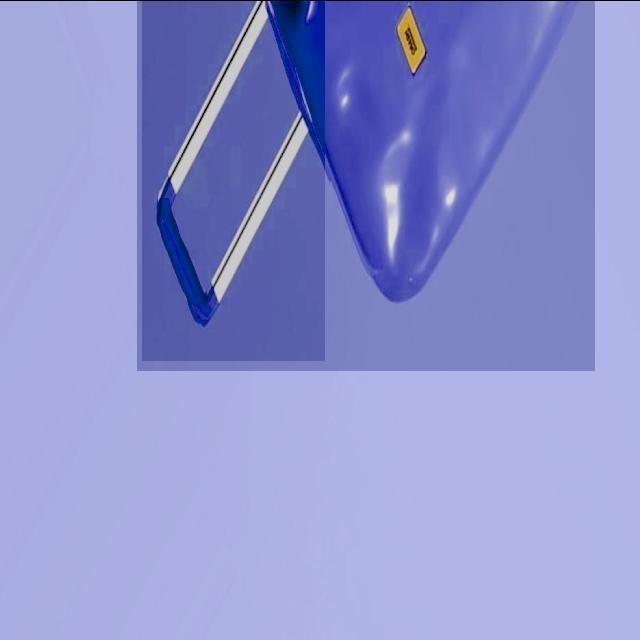Suitcase: (187, 2, 596, 312)
